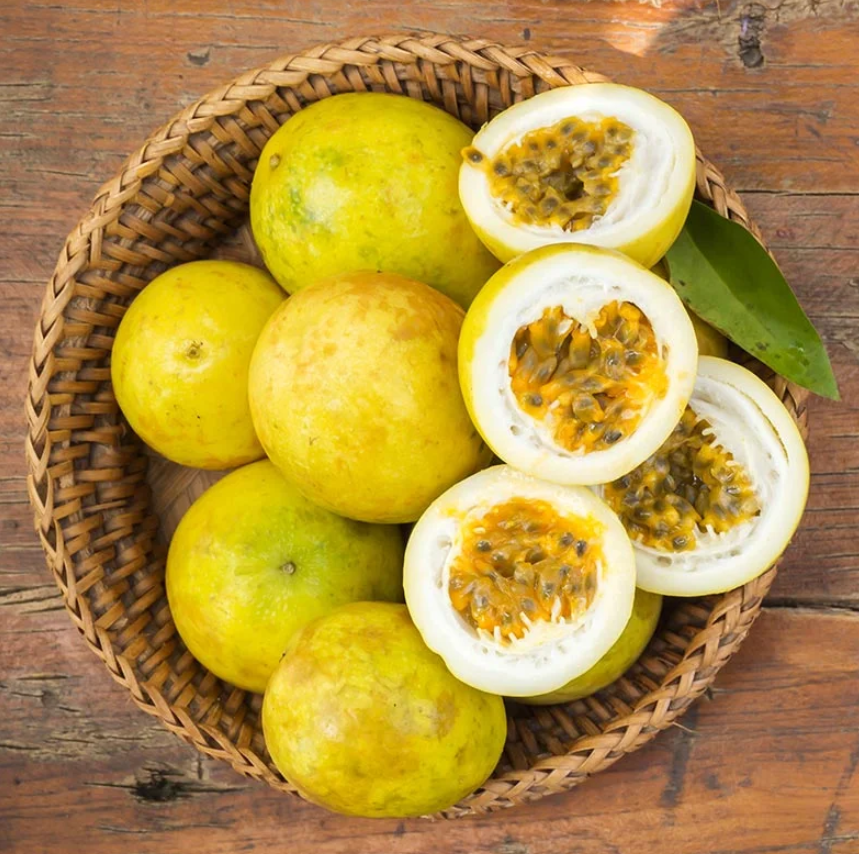maracuya: (240, 264, 529, 533), (155, 453, 461, 706), (240, 85, 528, 308), (247, 596, 521, 829), (103, 253, 314, 481)
